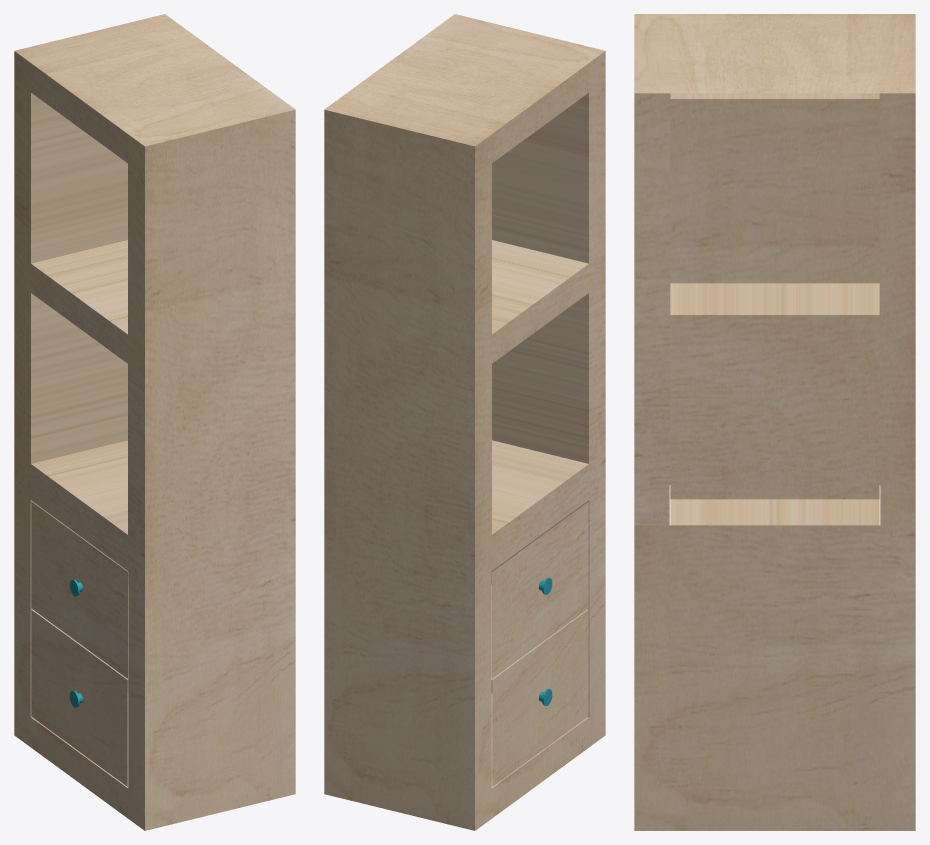
The model's file is alacenaGrande.obj.
3 views of the same model, side by side, from view 1: azimuth 30°, elevation 25°; view 2: azimuth 150°, elevation 25°; view 3: azimuth 270°, elevation 25° (orthographic). The views are drawn at different scales.
Parts seen in each view (by area): view 1: polySurface245; view 2: polySurface245; view 3: polySurface245.
Part boxes in pixels (x1,y1,x2,y2): polySurface245: [14, 14, 295, 830]; polySurface245: [324, 14, 605, 830]; polySurface245: [634, 14, 915, 830].
Bounding box in the file's own units: 1.19 × 4.93 × 1.71.
Materials: 2 (2 with a texture image).
